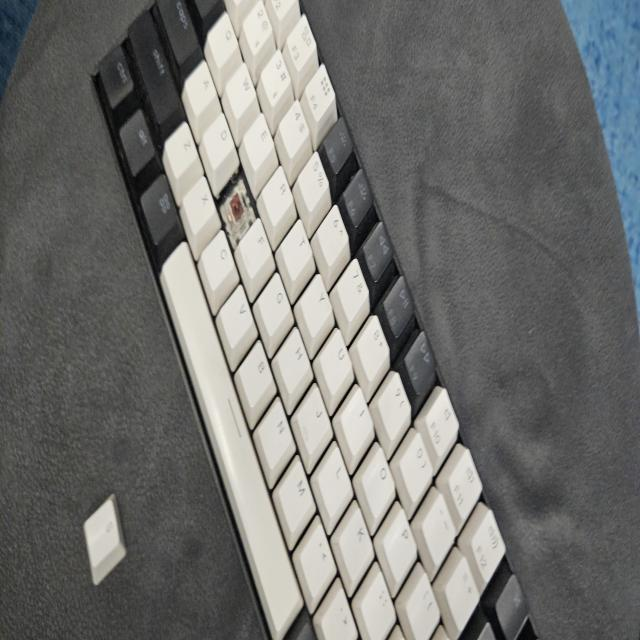C: (226, 182, 242, 221)
